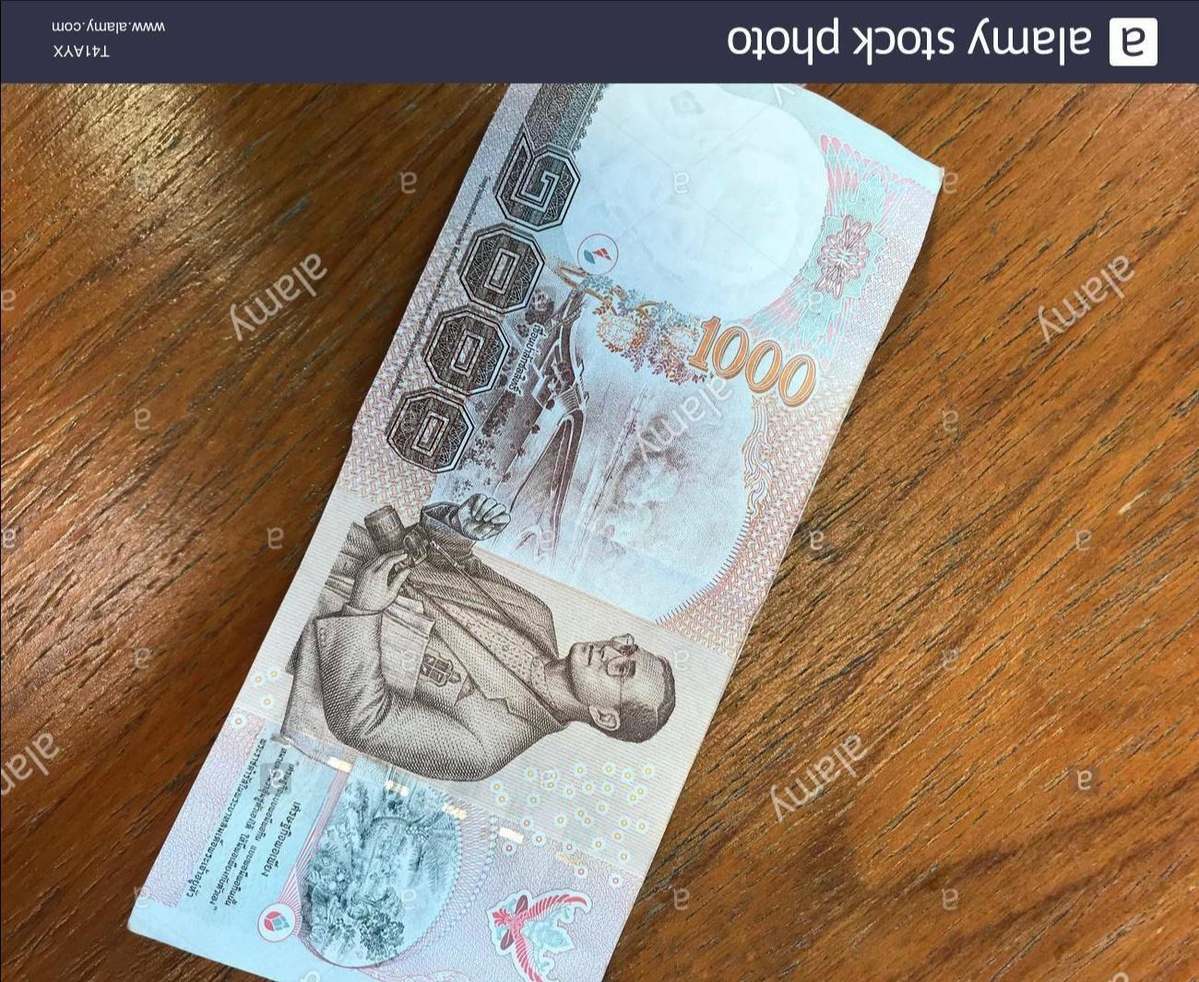1000BahtTai: (136, 83, 943, 982)
